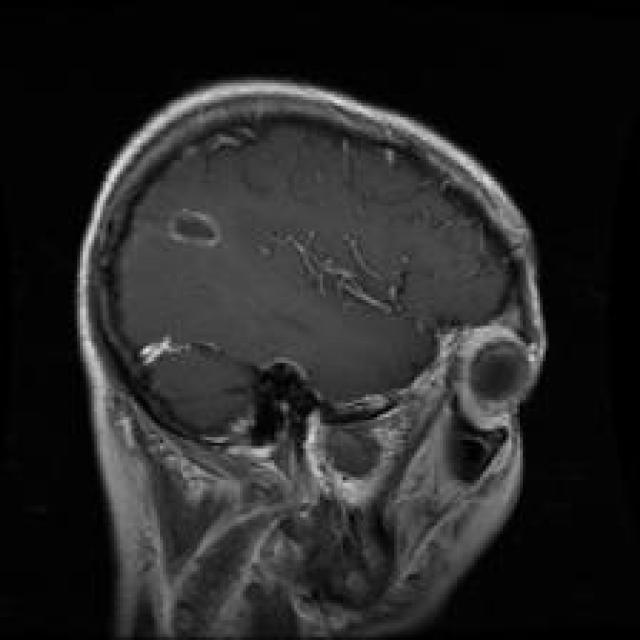glioma_tumor: (155, 204, 234, 258)
